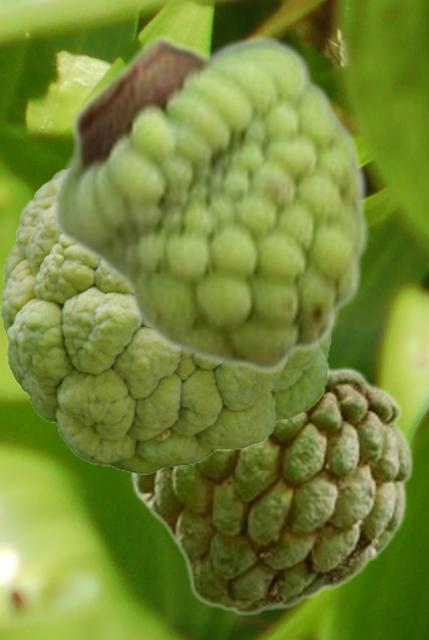atis: (51, 32, 370, 376), (1, 166, 333, 473), (128, 365, 413, 615)
